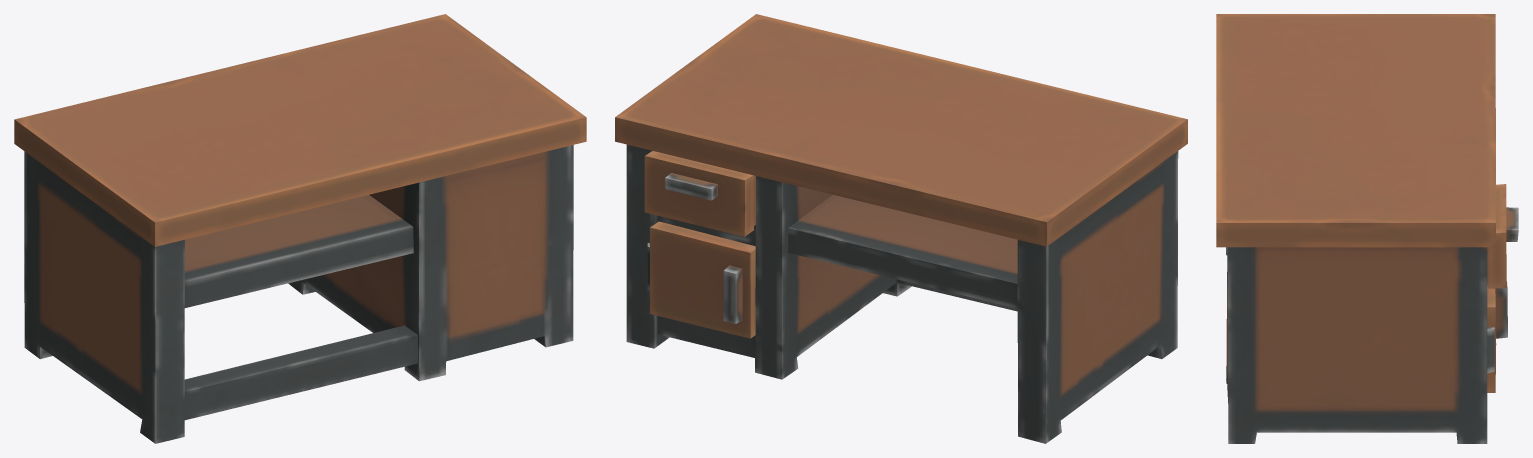
The model's file is Pfb_Indoors_Table.fbx.
The picture shows the model from 3 angles, left to right: view 1: azimuth 30°, elevation 25°; view 2: azimuth 150°, elevation 25°; view 3: azimuth 270°, elevation 25°; orthographic projection.
Parts seen in each view (by area): view 1: Mat_Indoors_Table_02; view 2: Mat_Indoors_Table_02; view 3: Mat_Indoors_Table_02.
Part boxes in pixels (<box>): Mat_Indoors_Table_02: <box>14,14,586,443</box>; Mat_Indoors_Table_02: <box>615,14,1187,443</box>; Mat_Indoors_Table_02: <box>1216,14,1518,443</box>.
Bounding box in the file's own units: 1.28 × 0.6467 × 0.7827.
Materials: 1 (1 with a texture image).
